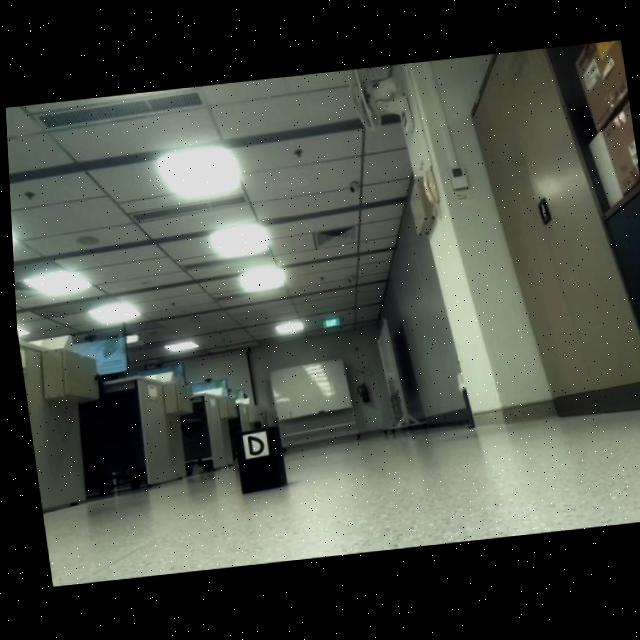D: (242, 437, 260, 458)
